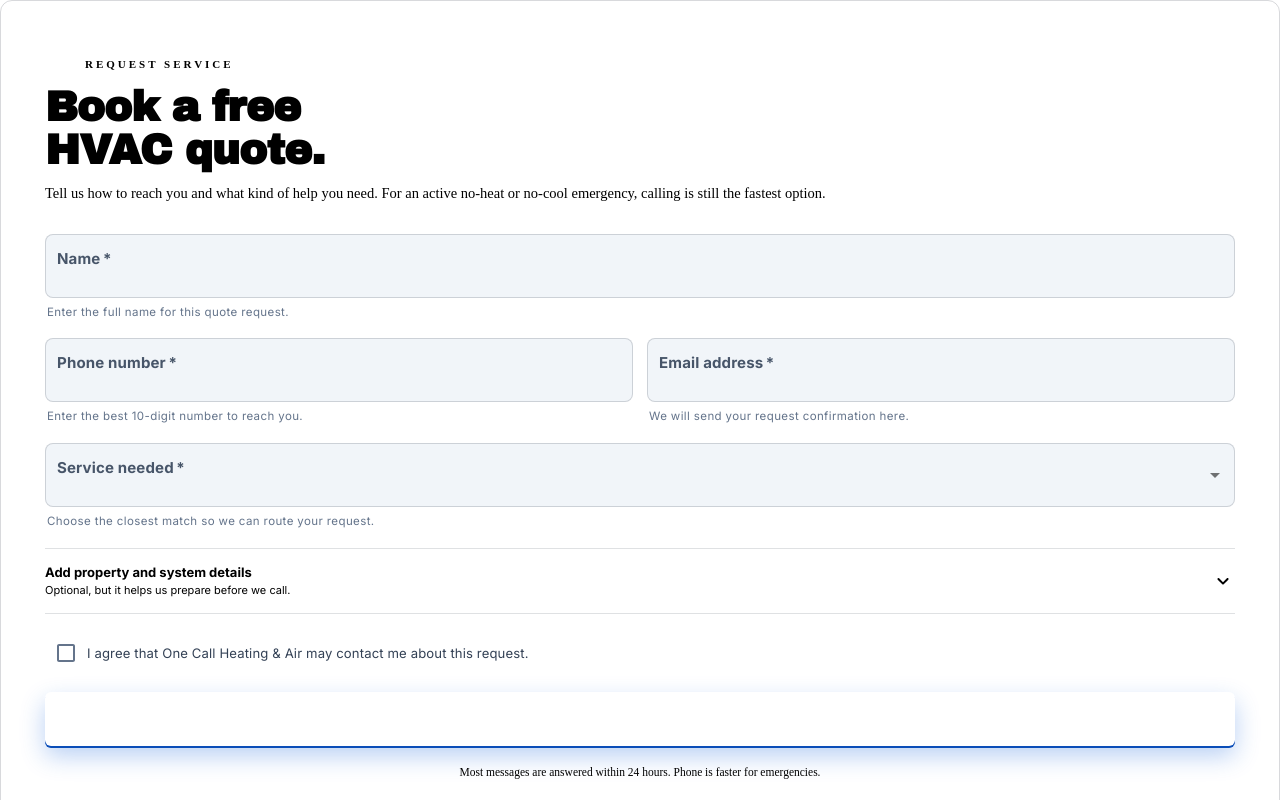
it: FreeQuoteForm optional details › opens and closes the optional property fields from the disclosure
The width and height of the screenshot is (1280, 800).
Check: the field labelled "system type" is not shown
Click the button "Add property and system details" at (148, 572), box [45, 548, 1235, 614]
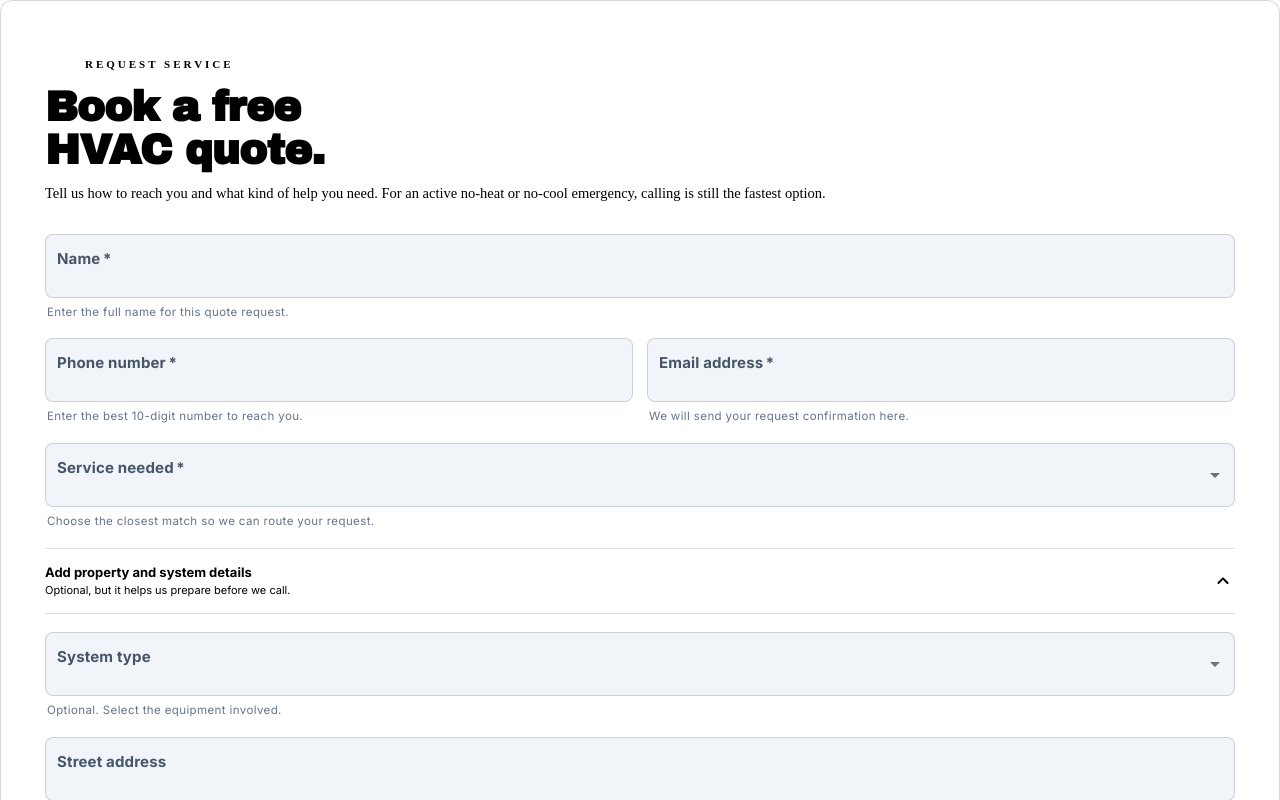
Check: the button "Add property and system details" is expanded
Check: the dropdown named "system type" next to "System type" is shown, box [46, 634, 1234, 695]
Click the button "Add property and system details" at (148, 572), box [45, 548, 1235, 614]
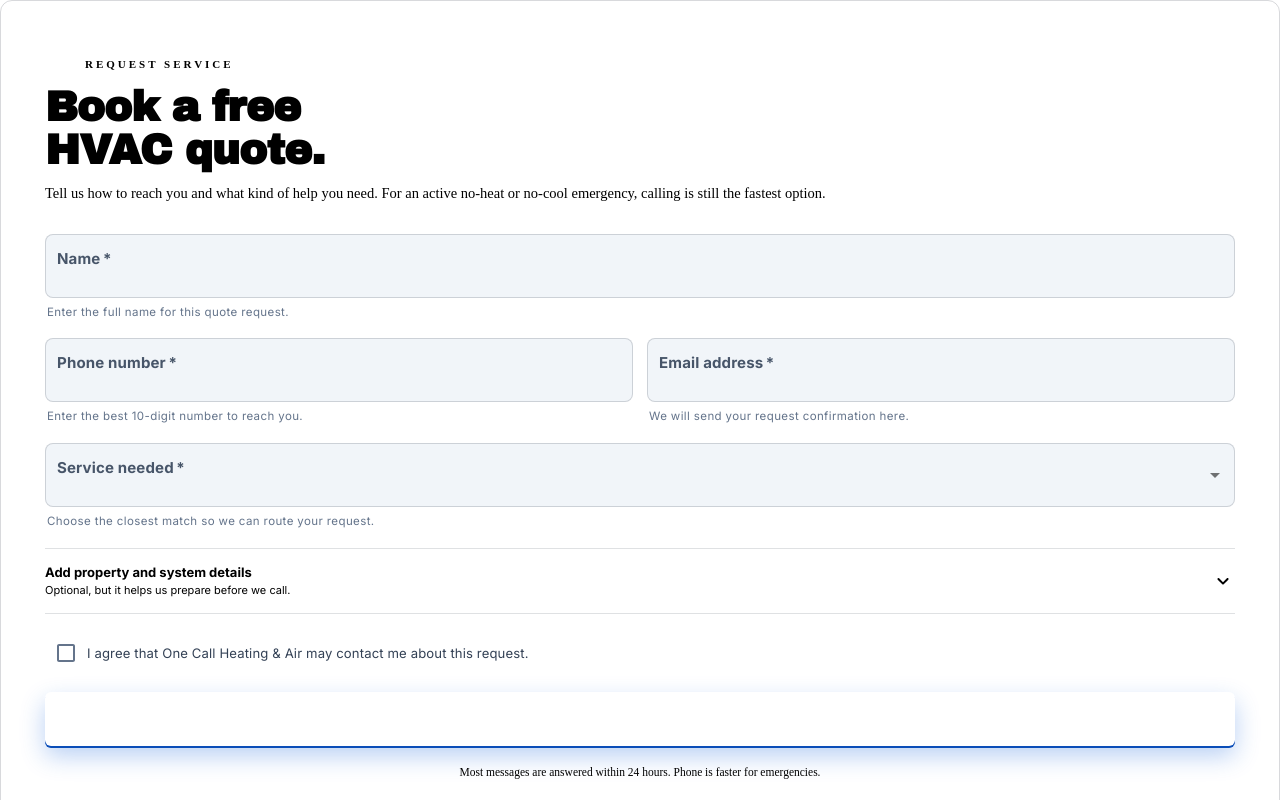
Check: the button "Add property and system details" is collapsed, box [45, 548, 1235, 614]
Check: the label labelled "System type" is gone
